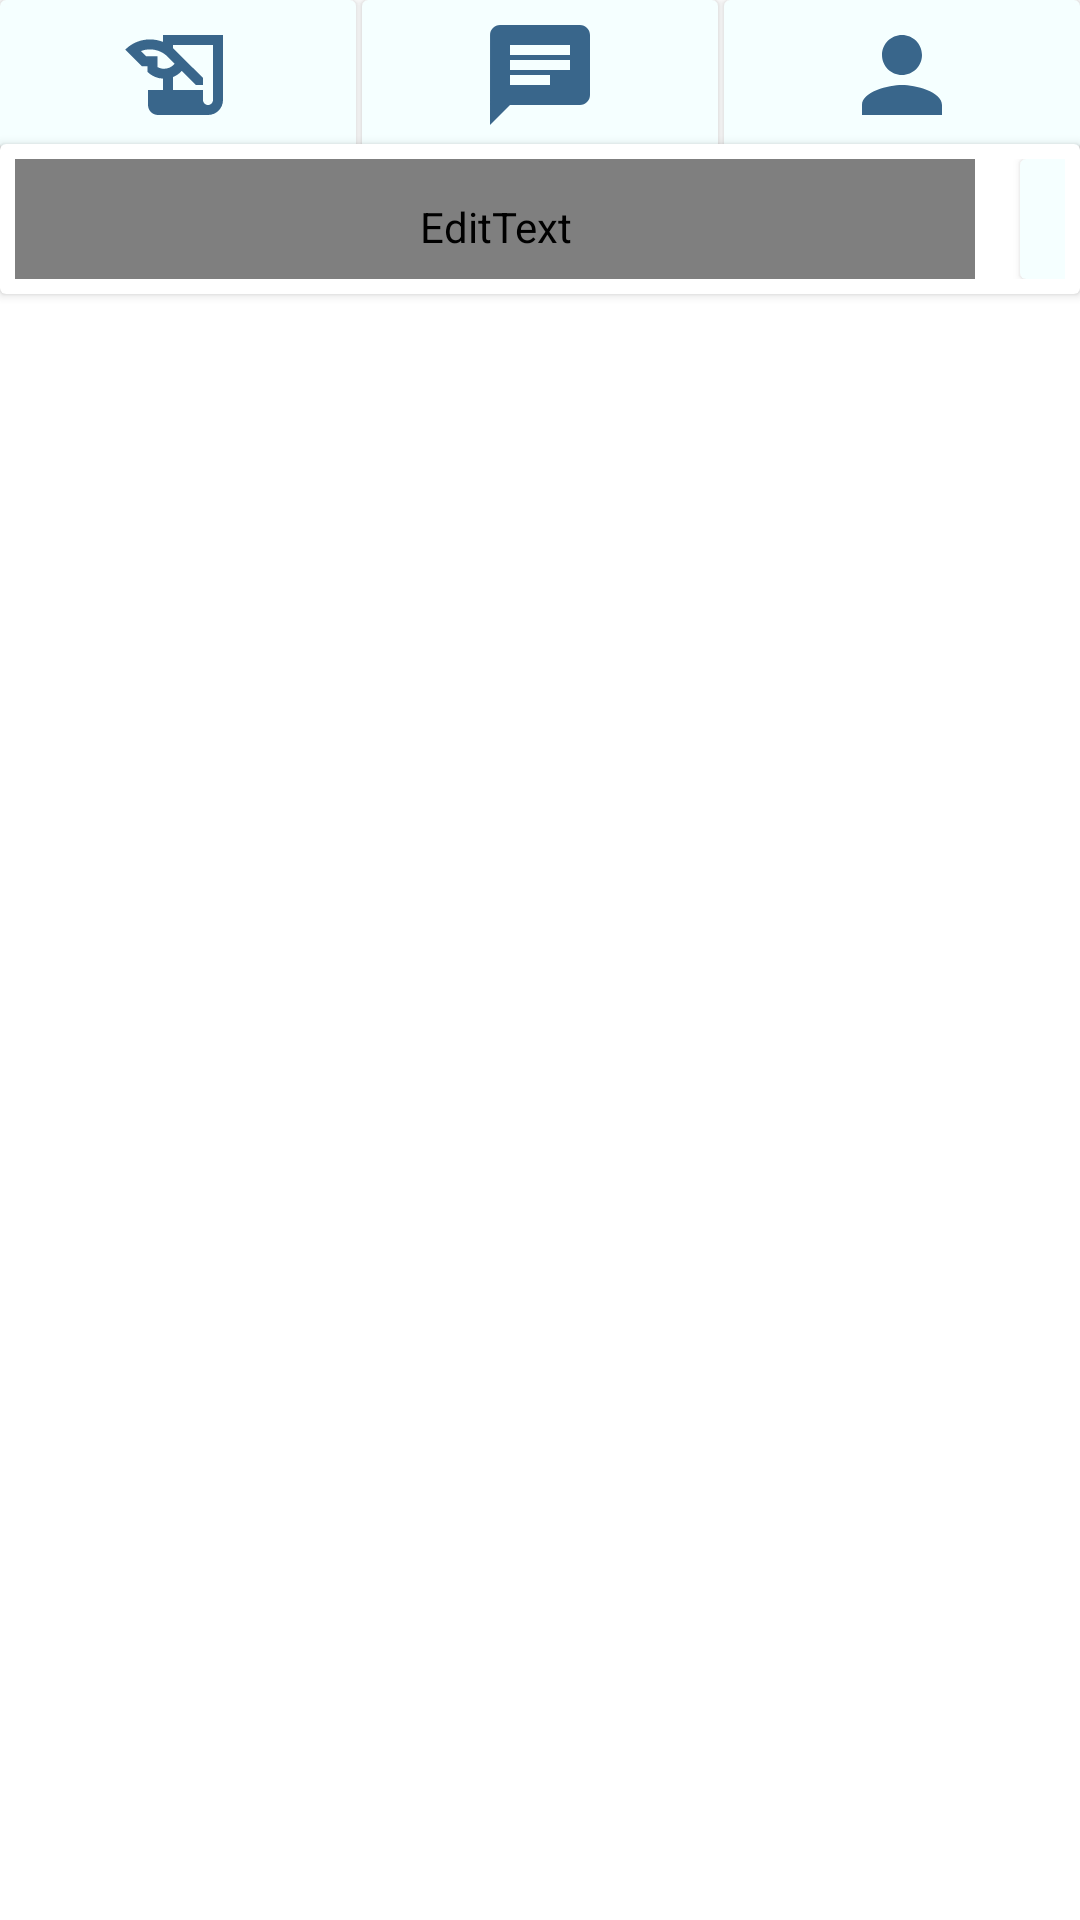

Icon click points for this 1080x1920 phone screenshot, format [x,y]:
chat: [540,75]
history edu: [174,75]
person: [902,75]
